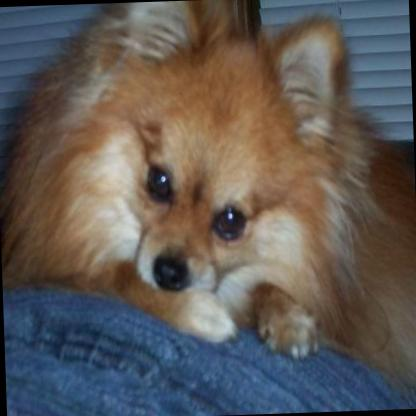Pomeranian: (0, 0, 416, 404)
